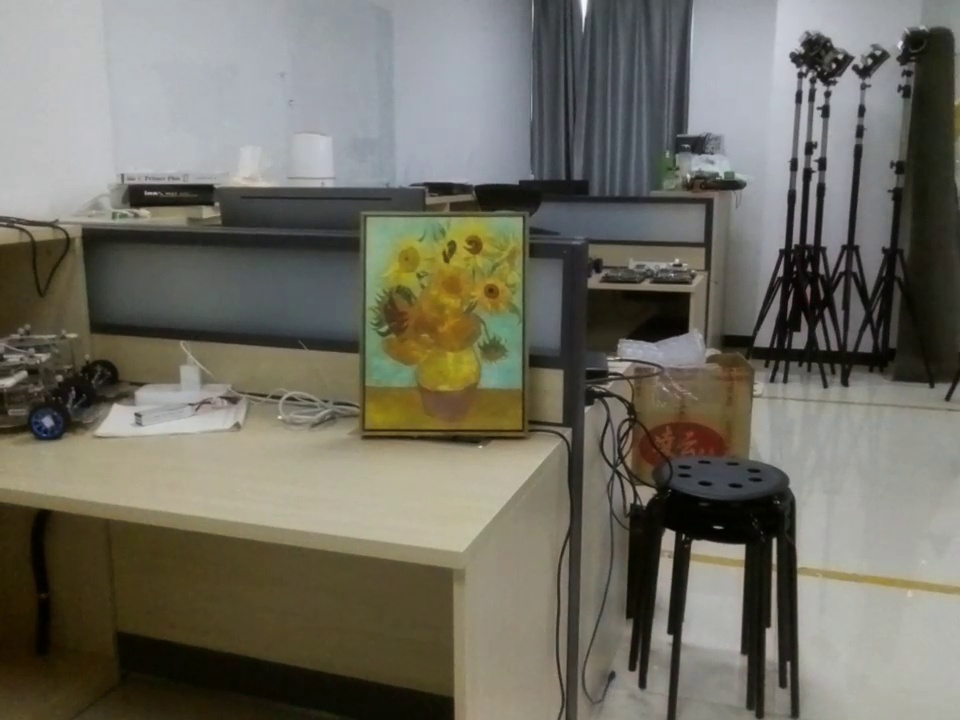painting: (361, 209, 539, 445)
